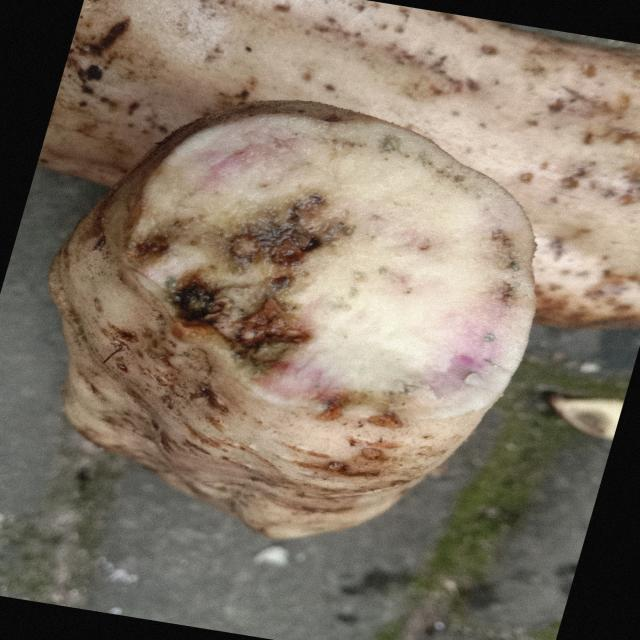Sick Sweet Potato_Tuber Rot: (127, 112, 533, 425)
